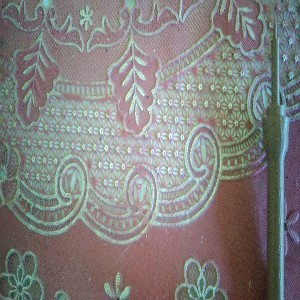solder: (261, 17, 290, 300)
